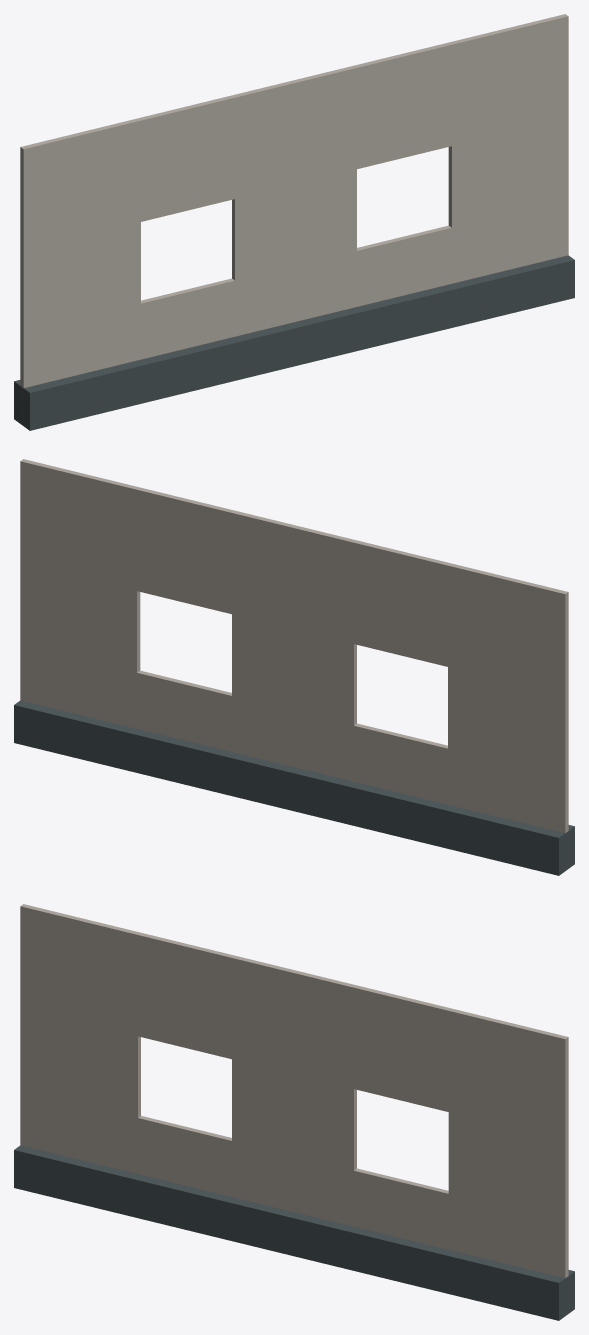
Rendered from Wall_05_Window.fbx.
3 views of the same model, one above another, from view 1: azimuth 30°, elevation 25°; view 2: azimuth 150°, elevation 25°; view 3: azimuth 330°, elevation 25° (orthographic).
Parts seen in each view (by area): view 1: Wall_05_Window; view 2: Wall_05_Window; view 3: Wall_05_Window.
Part boxes in pixels (left/top/right/bottom): Wall_05_Window: left=14, top=14, right=574, bottom=430; Wall_05_Window: left=14, top=459, right=574, bottom=875; Wall_05_Window: left=14, top=904, right=574, bottom=1320.
Bounding box in the file's own units: 575 × 279 × 29.21.
